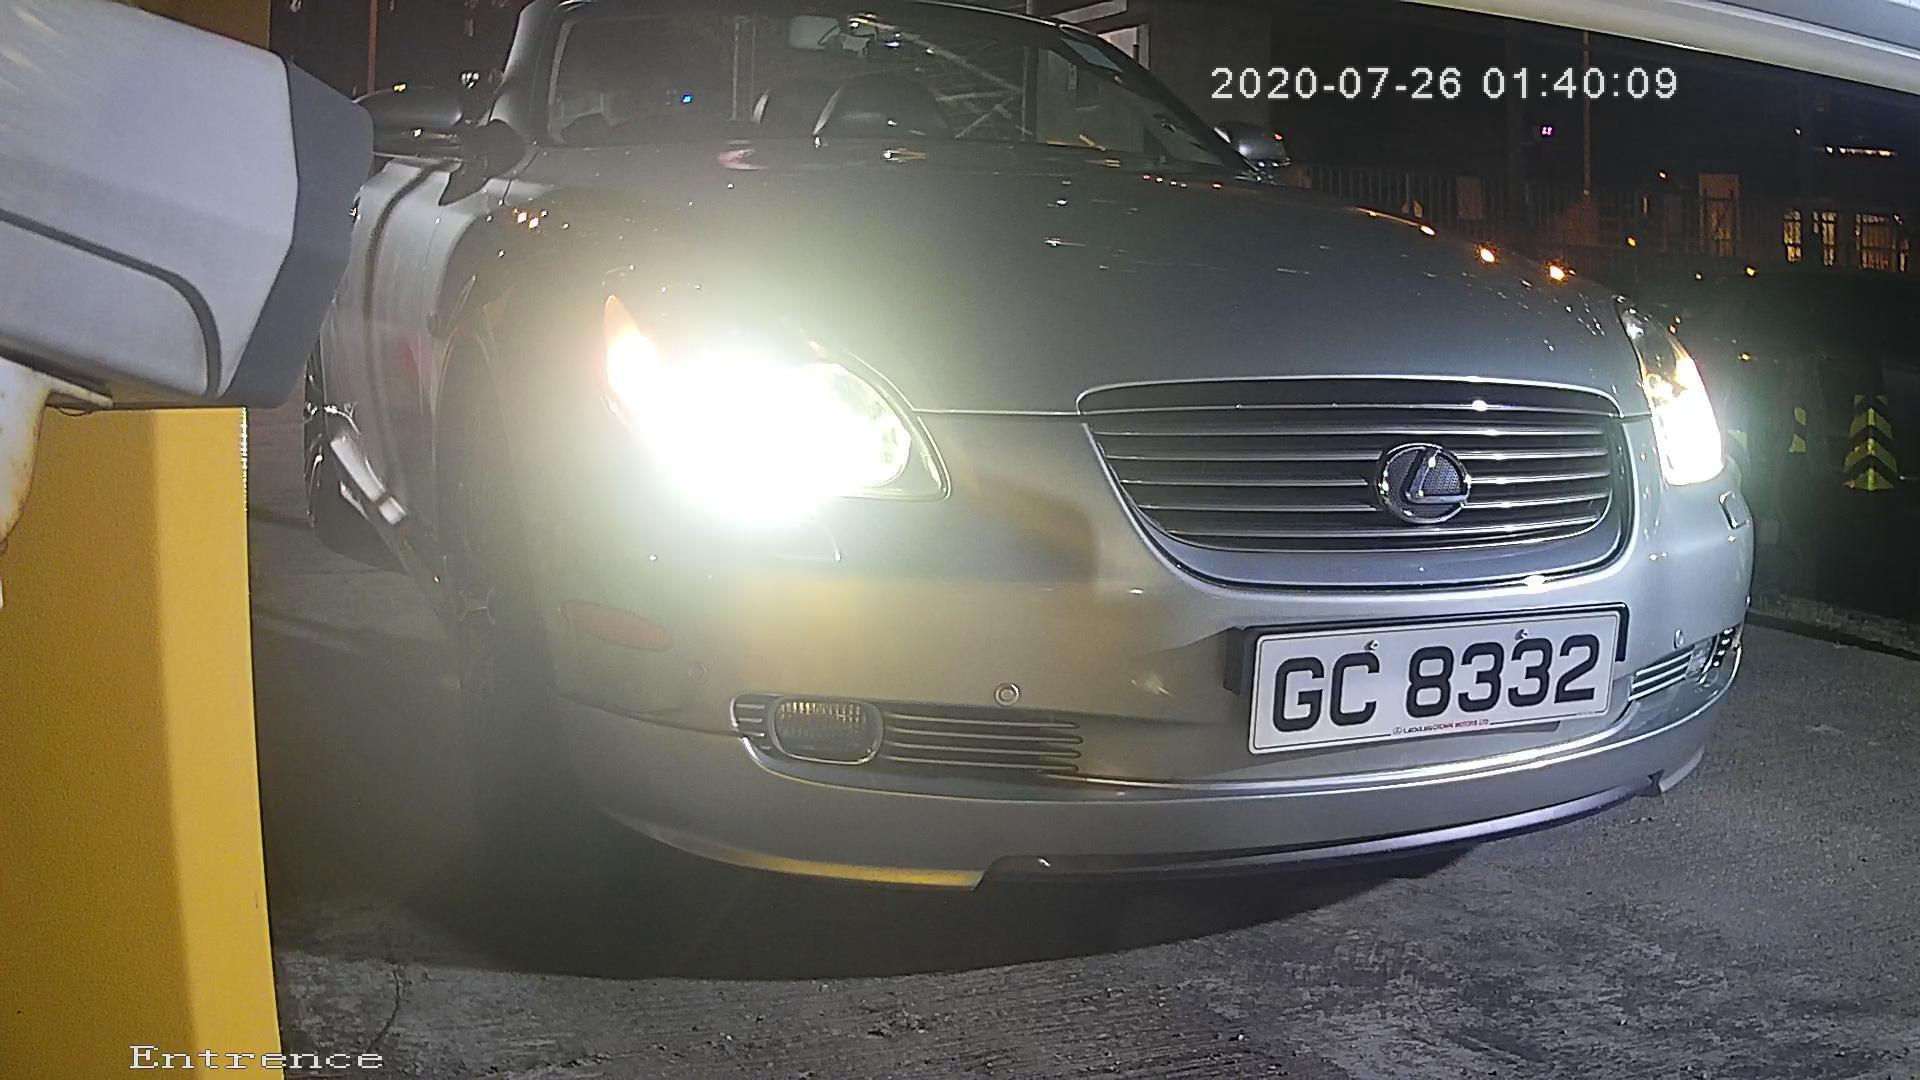privatecar: (429, 5, 1809, 960)
